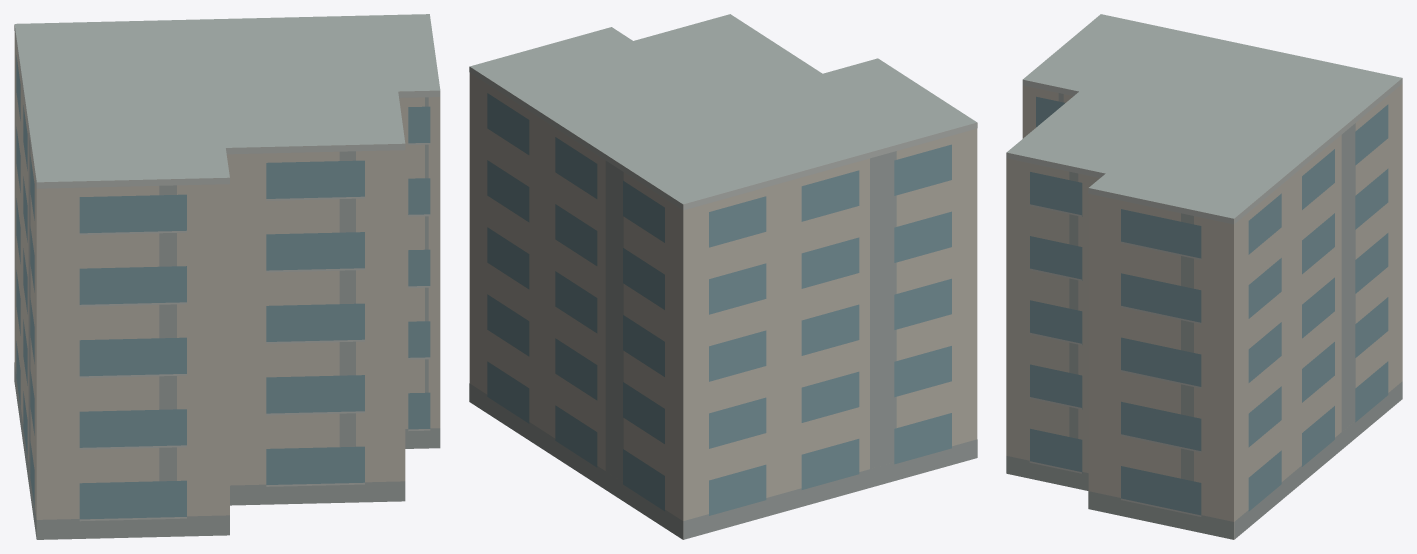
Rendered from survey-upis-32826878.glb.
3 renders of one model, left to right at view 1: azimuth 30°, elevation 25°; view 2: azimuth 150°, elevation 25°; view 3: azimuth 270°, elevation 25°, orthographic. The views are drawn at different scales.
Parts seen in each view (by area): view 1: survey-upis-32826878.tmp; view 2: survey-upis-32826878.tmp; view 3: survey-upis-32826878.tmp.
Boxes of the visible parts, x1,y1,x2,y2 form: survey-upis-32826878.tmp: [14, 14, 440, 539]; survey-upis-32826878.tmp: [469, 14, 977, 539]; survey-upis-32826878.tmp: [1006, 14, 1402, 539].
Size of the model in its own units: 18.61 by 13.6 by 15.21.
